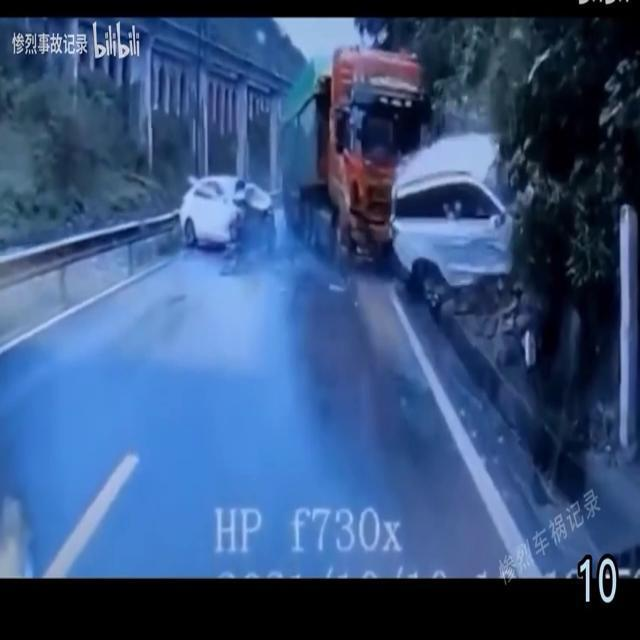accident: (179, 43, 553, 311), (276, 45, 552, 312), (178, 45, 428, 271)
